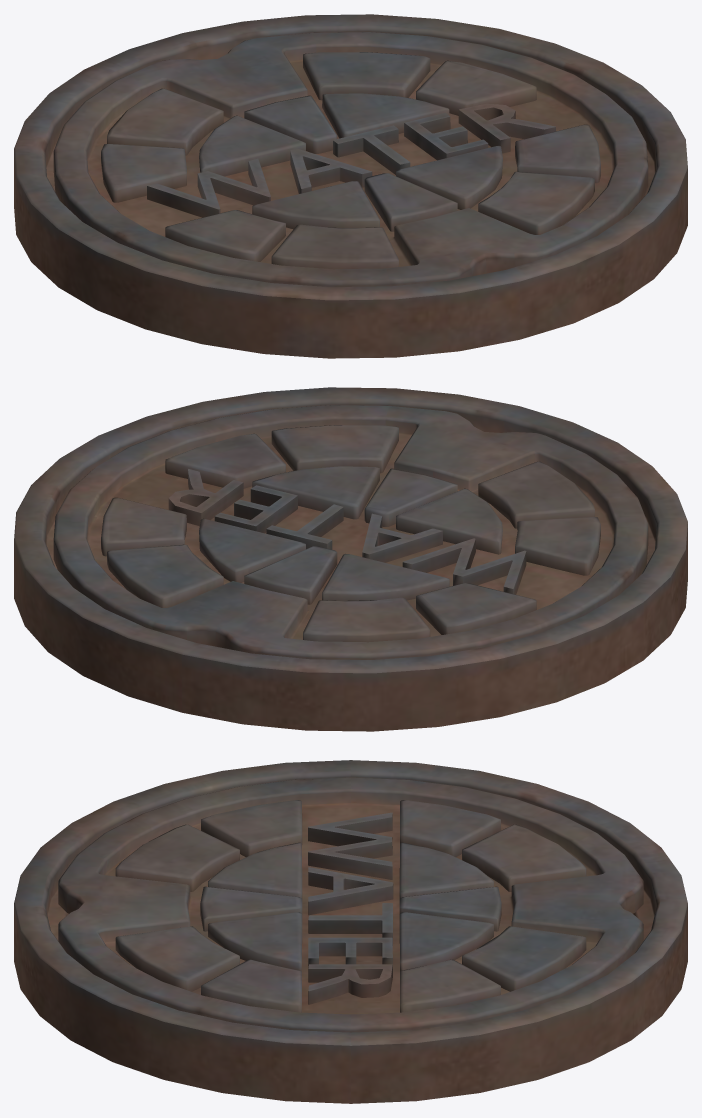
File: ph2_water_manhole_cover.glb
The picture shows the model from 3 angles, top to bottom: view 1: azimuth 30°, elevation 25°; view 2: azimuth 150°, elevation 25°; view 3: azimuth 270°, elevation 25°; orthographic projection.
Bounding box in the file's own units: 0.6908 × 0.0676 × 0.6908.
1 material, 1 textured.
